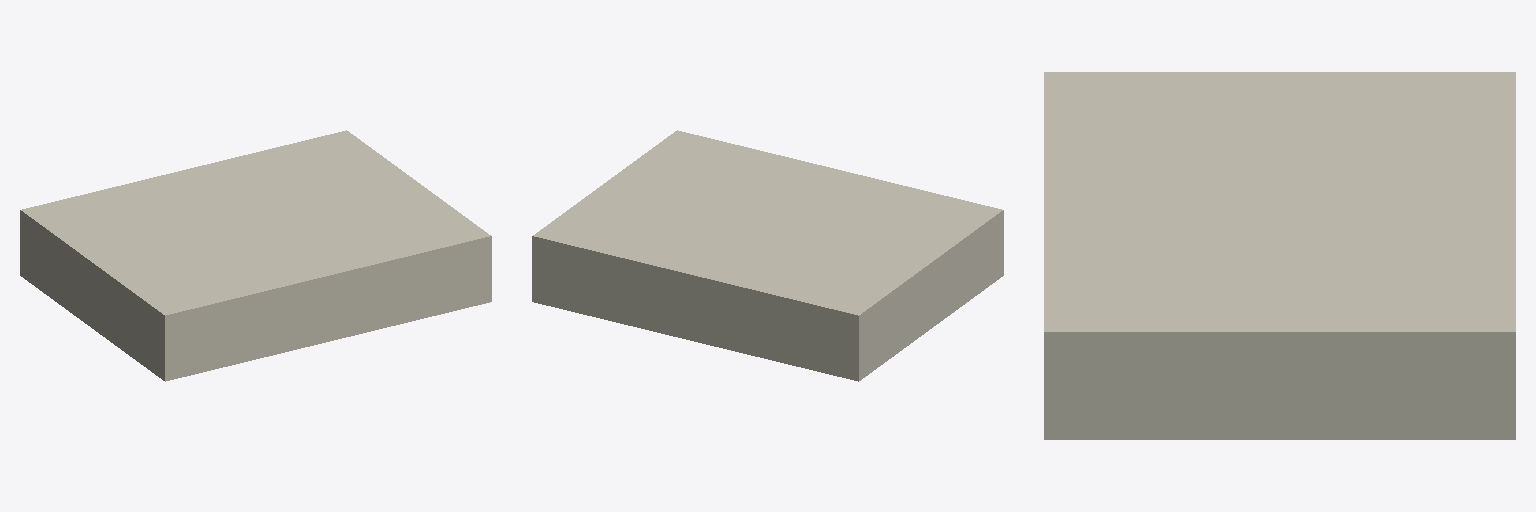
robot.urdf — laptop:
<?xml version="1.0"?>
<robot name="laptop">
  <!-- Base / keyboard half - sits on table -->
  <!-- x = lateral (width), y = depth front(+)/back(-), z = up -->
  <link name="base_link">
    <inertial>
      <origin xyz="0 0 0" rpy="0 0 0"/>
      <mass value="1.8"/>
      <inertia ixx="0.00815" ixy="0" ixz="0" iyy="0.01372" iyz="0" izz="0.02144"/>
    </inertial>
    <visual>
      <origin xyz="0 0 0" rpy="0 0 0"/>
      <geometry>
        <box size="0.30 0.23 0.038"/>
      </geometry>
      <material name="beige">
        <color rgba="0.82 0.81 0.75 1"/>
      </material>
    </visual>
    <collision>
      <origin xyz="0 0 0" rpy="0 0 0"/>
      <geometry>
        <box size="0.30 0.23 0.038"/>
      </geometry>
    </collision>
  </link>

  <!-- Lid / screen half - origin at hinge line -->
  <link name="lid_link">
    <inertial>
      <origin xyz="0 0.115 0.01" rpy="0 0 0"/>
      <mass value="0.9"/>
      <inertia ixx="0.0040" ixy="0" ixz="0" iyy="0.00678" iyz="0" izz="0.01072"/>
    </inertial>
    <visual>
      <origin xyz="0 0.115 0.01" rpy="0 0 0"/>
      <geometry>
        <box size="0.30 0.23 0.02"/>
      </geometry>
      <material name="beige_lid">
        <color rgba="0.82 0.81 0.75 1"/>
      </material>
    </visual>
    <collision>
      <origin xyz="0 0.115 0.01" rpy="0 0 0"/>
      <geometry>
        <box size="0.30 0.23 0.02"/>
      </geometry>
    </collision>
  </link>

  <!-- Hinge at rear top edge of base -->
  <joint name="lid_hinge" type="revolute">
    <parent link="base_link"/>
    <child link="lid_link"/>
    <origin xyz="0 -0.115 0.019" rpy="0 0 0"/>
    <axis xyz="1 0 0"/>
    <limit lower="0" upper="1.92" effort="10" velocity="2.0"/>
    <dynamics damping="0.1" friction="0.1"/>
  </joint>
</robot>

--- What the picture shows (computed from the rendered views, not written in the file) ---
Views: 3 orthographic renders of the robot side by side, from view 1: azimuth 30°, elevation 25°; view 2: azimuth 150°, elevation 25°; view 3: azimuth 270°, elevation 25°.
Robot: laptop — 2 links, 1 joints (1 revolute); root link base_link; default pose: all joints at 0.
Links seen in each view (by area): view 1: lid_link, base_link; view 2: lid_link, base_link; view 3: lid_link, base_link.
Boxes of the visible links, x1,y1,x2,y2 form: lid_link: (20, 130, 491, 337); base_link: (20, 233, 491, 381); lid_link: (532, 130, 1003, 337); base_link: (532, 233, 1003, 381); lid_link: (1044, 72, 1515, 368); base_link: (1044, 369, 1515, 439).
Bounding box of the posed robot: 0.3 × 0.23 × 0.058 m (x, y, z).
Geometry: primitives only (box / cylinder / sphere), no mesh files.
